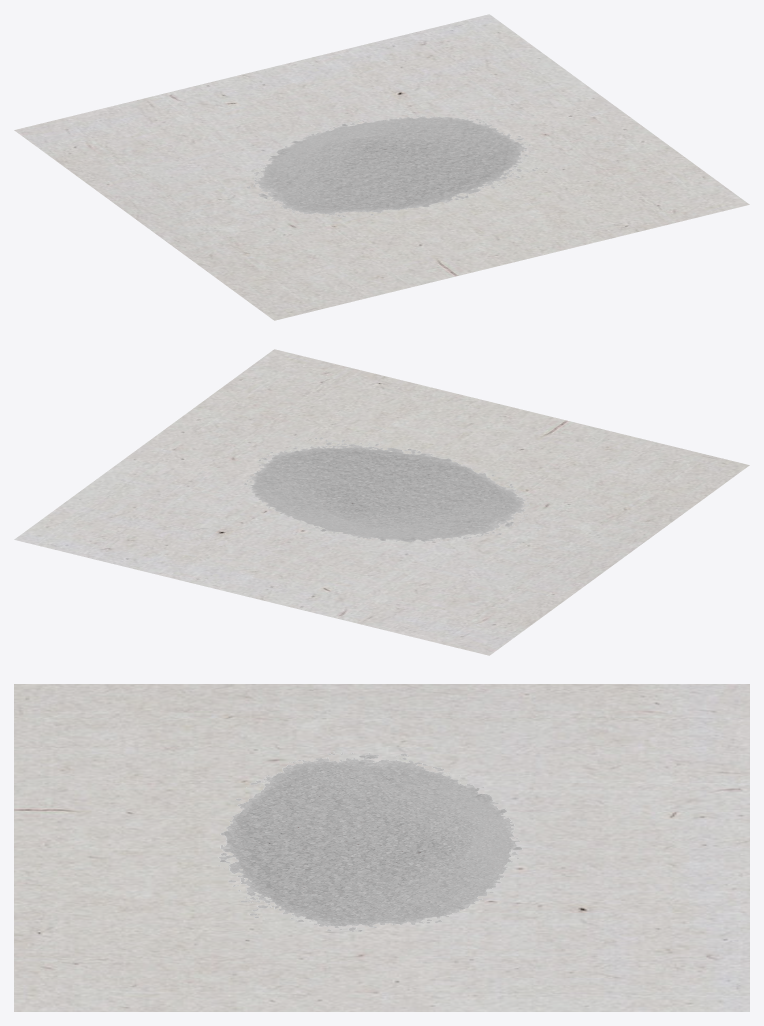
The model's file is SM_白粉末2.FBX.
3 views of the same model, one above another, from view 1: azimuth 30°, elevation 25°; view 2: azimuth 150°, elevation 25°; view 3: azimuth 270°, elevation 25° (orthographic). The views are drawn at different scales.
Parts seen in each view (by area): view 1: SM_纸004, SM_白粉末_002; view 2: SM_纸004, SM_白粉末_002; view 3: SM_纸004, SM_白粉末_002.
Part boxes in pixels (x1,y1,x2,y2): SM_纸004: [14, 14, 749, 320]; SM_白粉末_002: [246, 115, 538, 217]; SM_纸004: [14, 349, 749, 655]; SM_白粉末_002: [243, 437, 529, 543]; SM_纸004: [14, 684, 749, 1011]; SM_白粉末_002: [217, 751, 522, 932].
Bounding box in the file's own units: 113 × 1.07 × 107.
